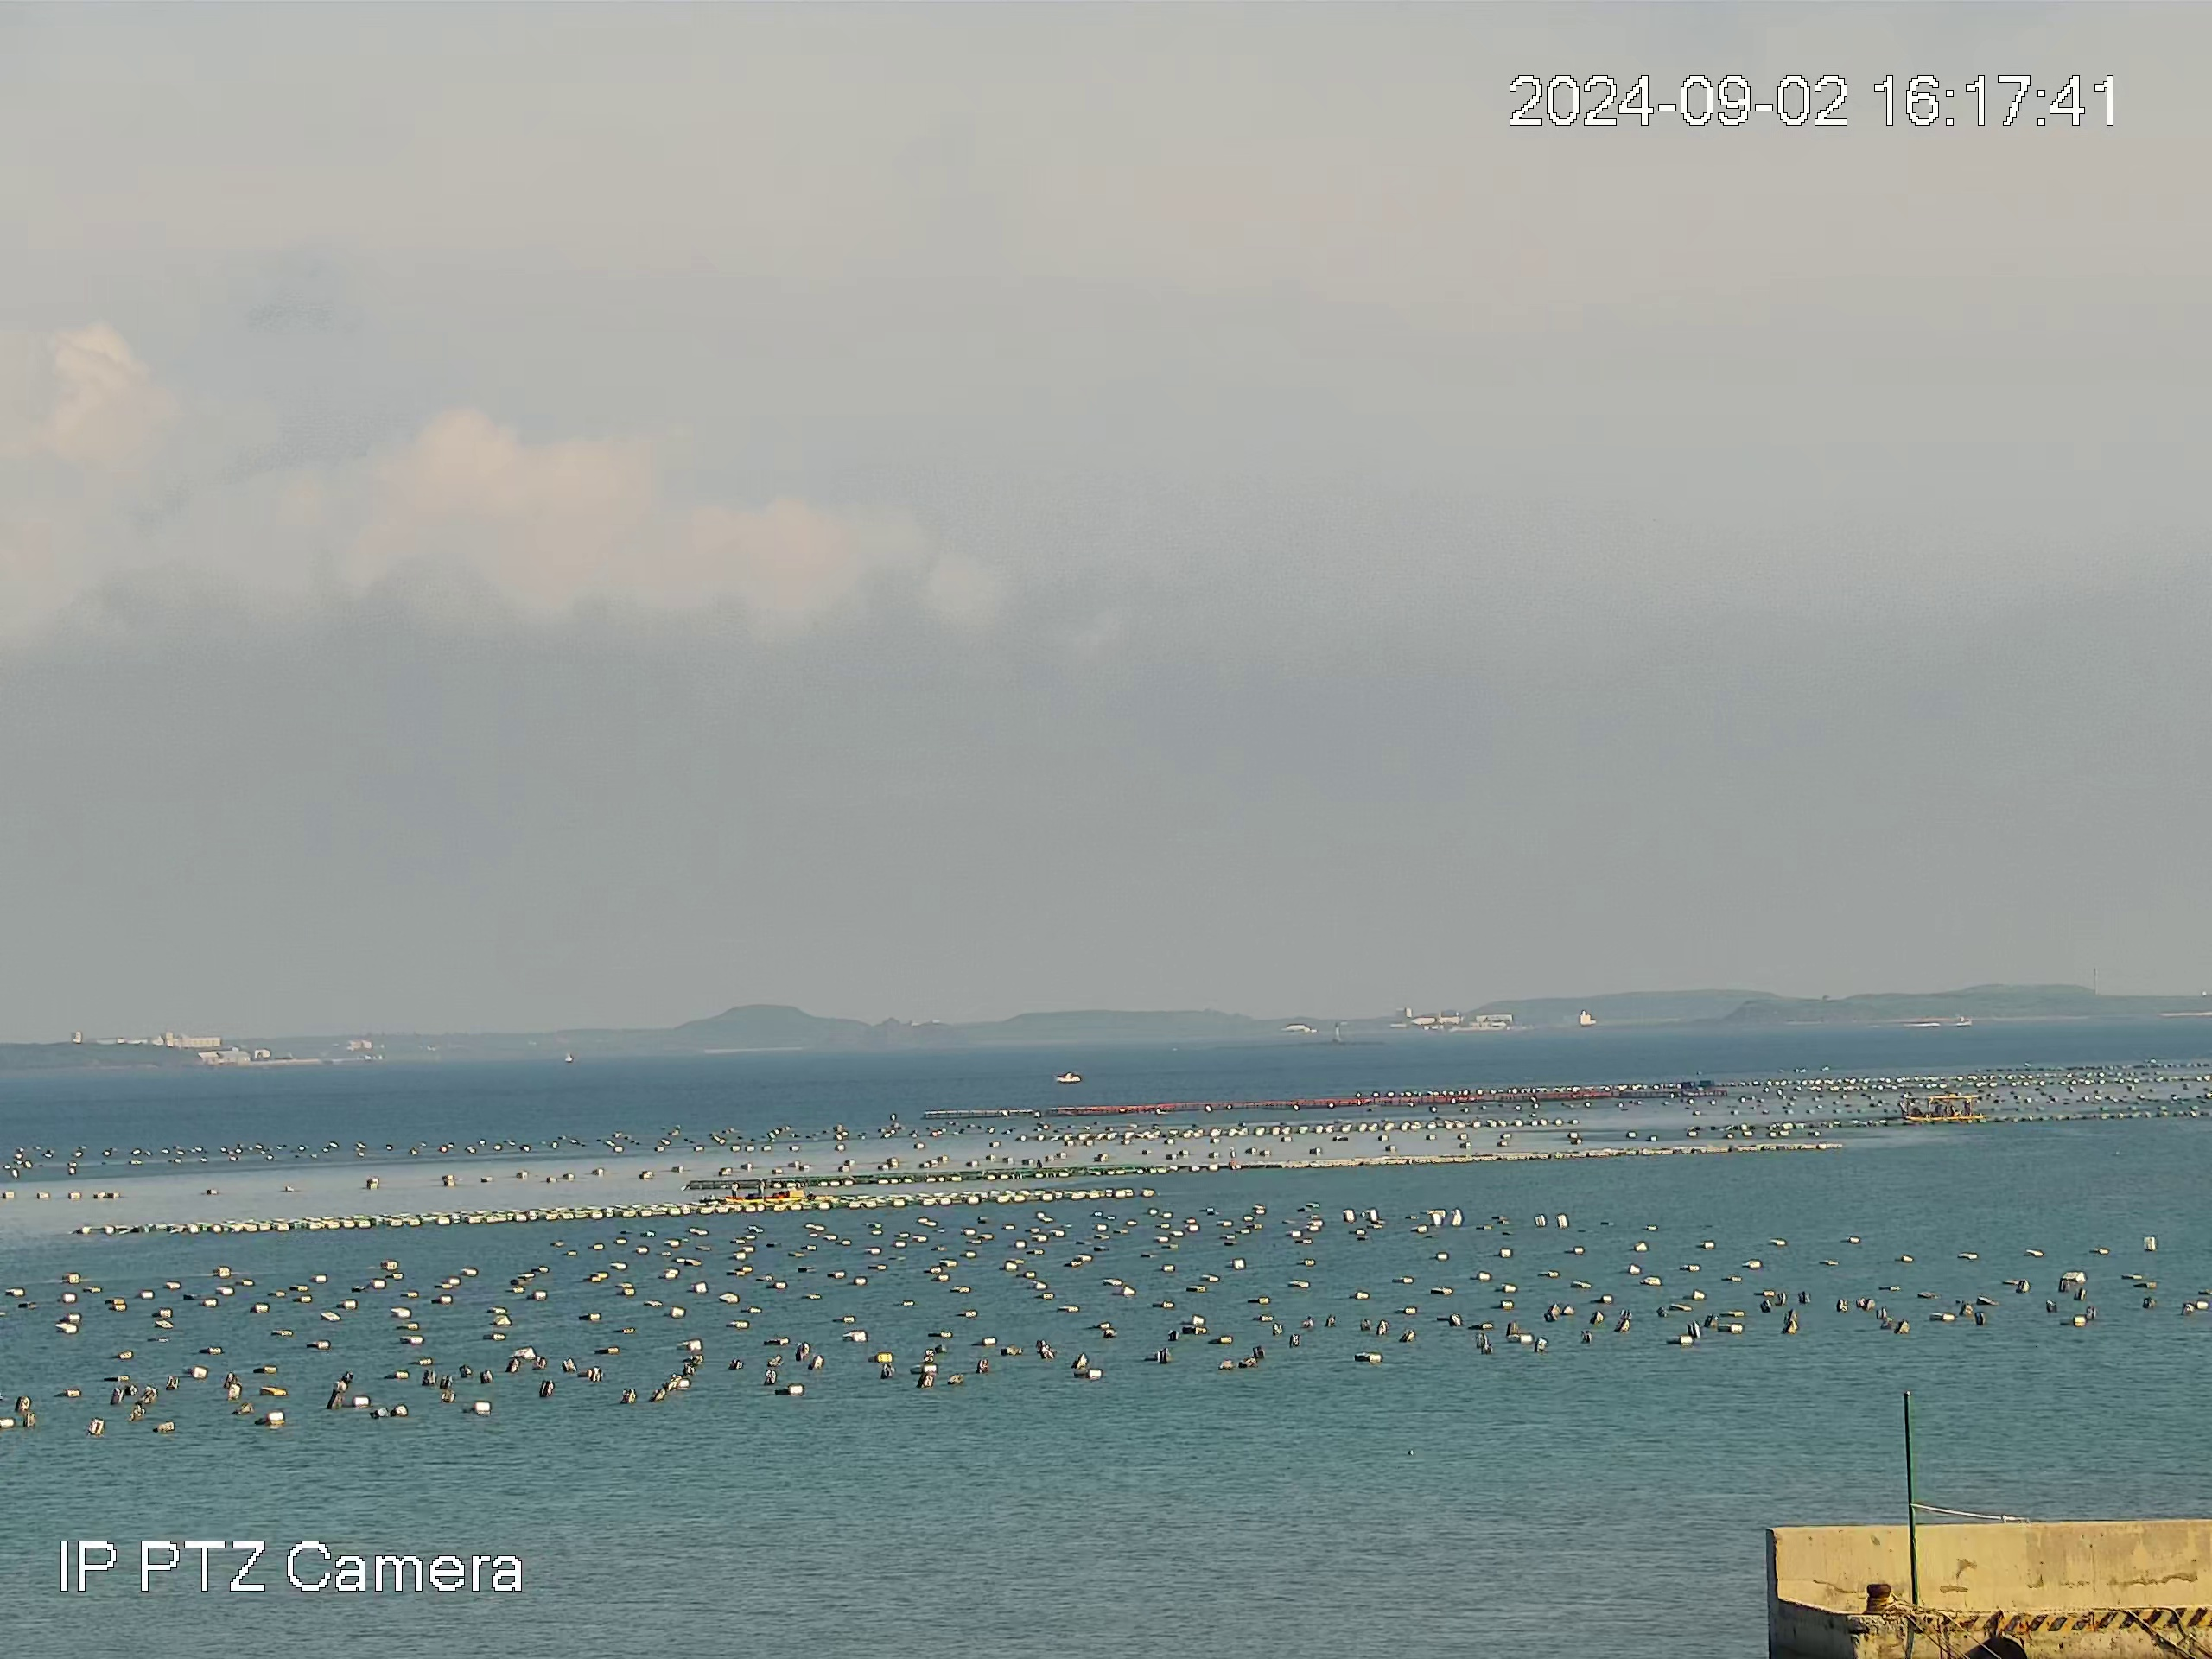boat: (1898, 1091, 1987, 1126), (723, 1178, 805, 1204), (1052, 1070, 1082, 1084)
